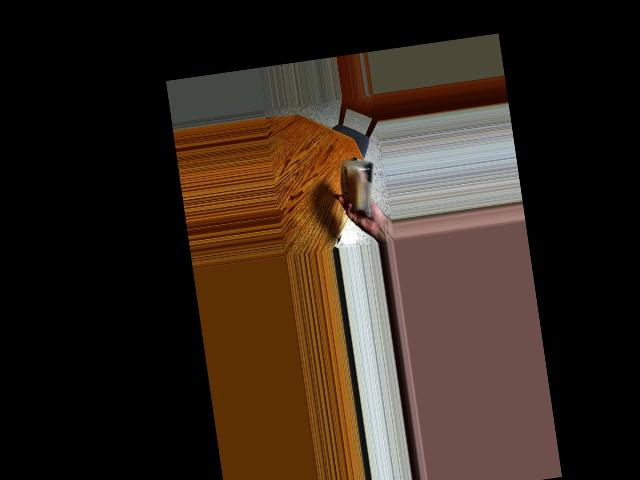cheese: (338, 159, 374, 210)
